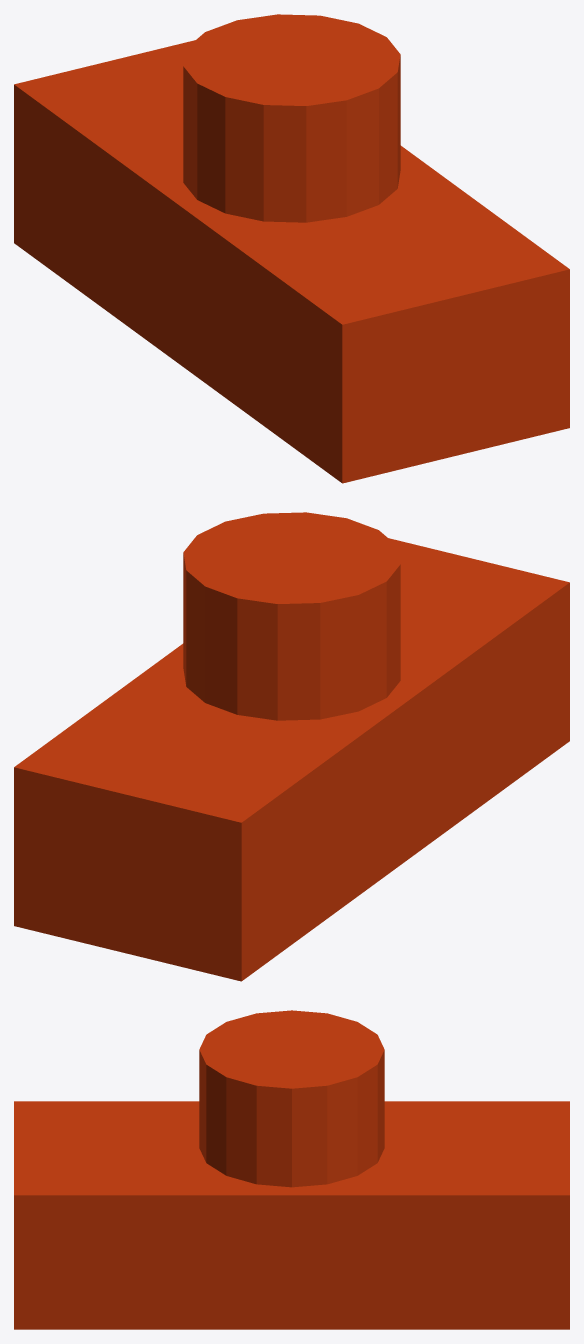
The model's file is than_battery.obj.
3 views of the same model, one above another, from view 1: azimuth 30°, elevation 25°; view 2: azimuth 150°, elevation 25°; view 3: azimuth 270°, elevation 25° (orthographic). The views are drawn at different scales.
Parts seen in each view (by area): view 1: Cylinder_Cylinder.002; view 2: Cylinder_Cylinder.002; view 3: Cylinder_Cylinder.002.
Boxes of the visible parts, x1=… form: Cylinder_Cylinder.002: x1=14, y1=14, x2=569, y2=483; Cylinder_Cylinder.002: x1=14, y1=512, x2=569, y2=981; Cylinder_Cylinder.002: x1=14, y1=1010, x2=569, y2=1329.
Size of the model in its own units: 0.6 by 0.6937 by 1.5.
